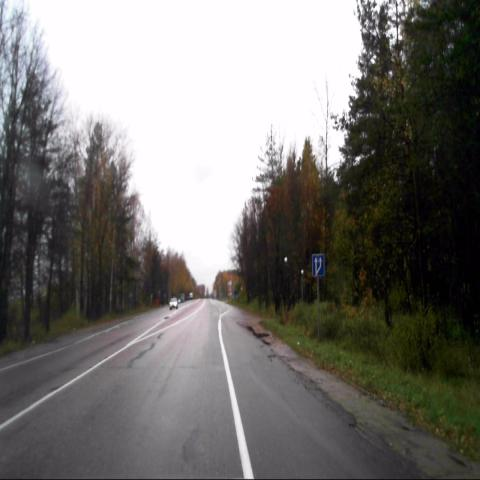5_15_3: (312, 254, 325, 277)
